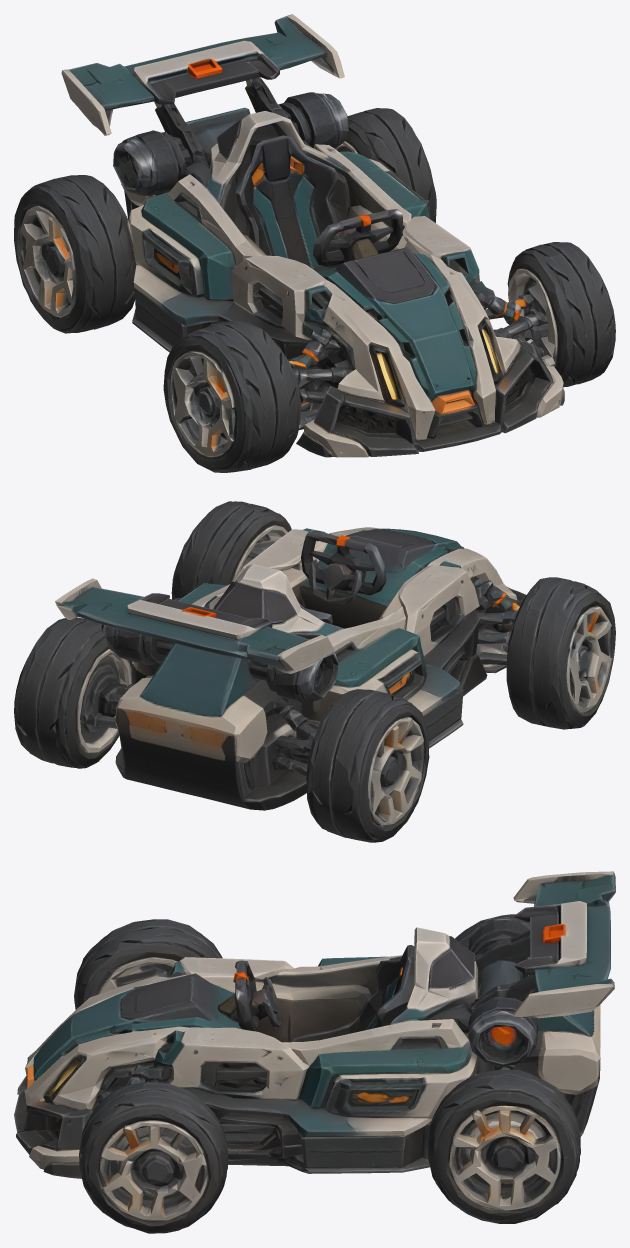
Rendered from 06-teal-courier-pbr.glb.
The picture shows the model from 3 angles, top to bottom: view 1: azimuth 30°, elevation 25°; view 2: azimuth 150°, elevation 25°; view 3: azimuth 270°, elevation 25°; orthographic projection. The views are drawn at different scales.
Visible parts, largest first — view 1: model; view 2: model; view 3: model.
Part boxes in pixels (x1,y1,x2,y2): model: (14, 14, 615, 472); model: (14, 501, 615, 842); model: (14, 871, 615, 1233).
Size of the model in its own units: 1.49 by 0.7684 by 1.9.
1 material, 1 textured.
